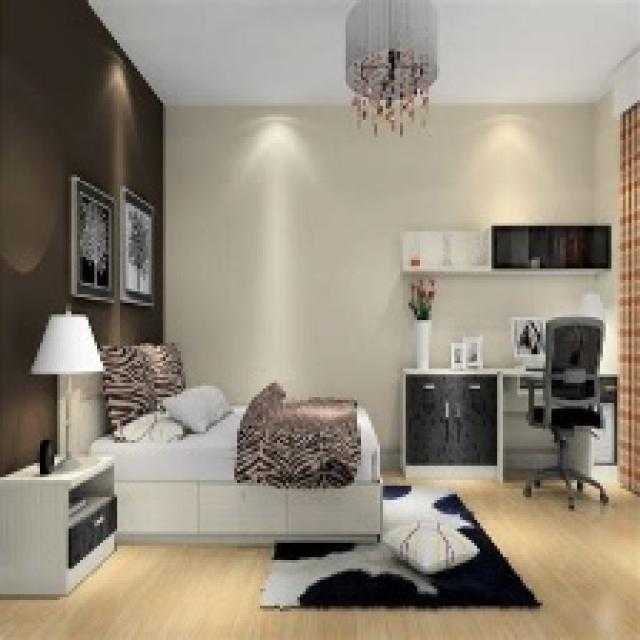Bed: (74, 340, 383, 546)
